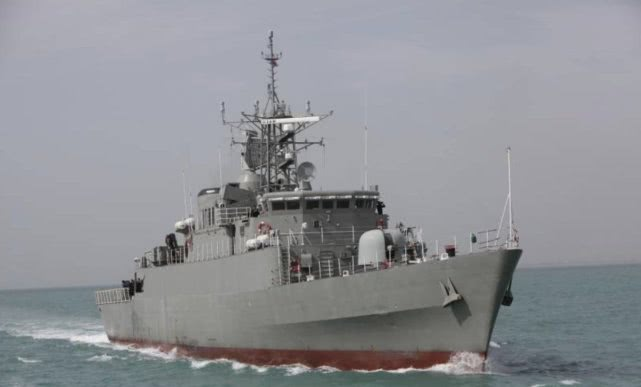warship: (96, 45, 522, 372)
